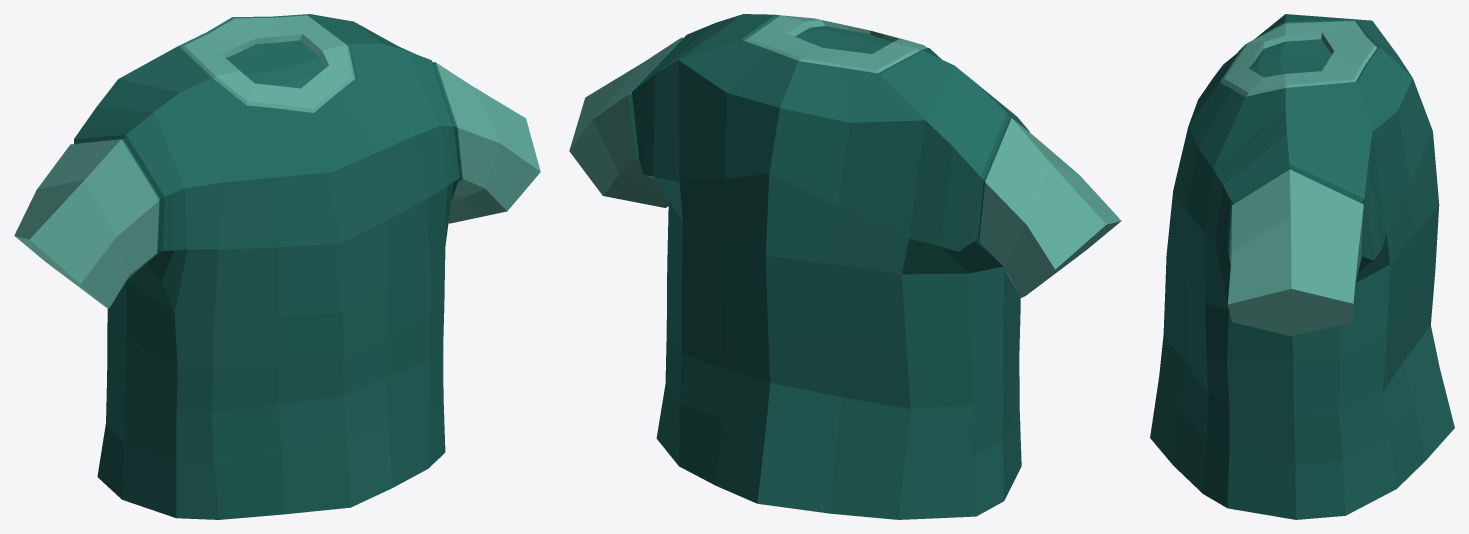
The model's file is playerA_man_shirt.fbx.
3 views of the same model, side by side, from view 1: azimuth 30°, elevation 25°; view 2: azimuth 150°, elevation 25°; view 3: azimuth 270°, elevation 25° (orthographic). The views are drawn at different scales.
Visible parts, largest first — view 1: shirt; view 2: shirt; view 3: shirt.
Boxes of the visible parts, x1,y1,x2,y2 form: shirt: (14,14,540,519); shirt: (569,14,1121,519); shirt: (1150,14,1454,519).
Size of the model in its own units: 162 by 129 by 88.81.
